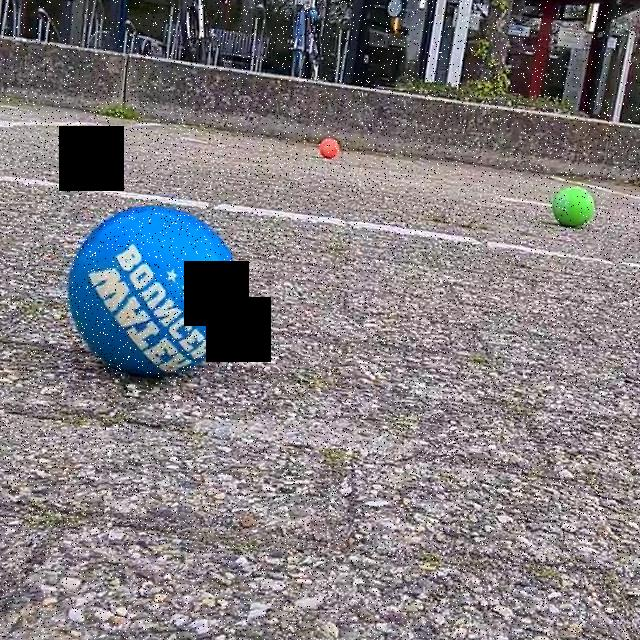ball: (548, 183, 596, 229), (318, 134, 340, 161)
